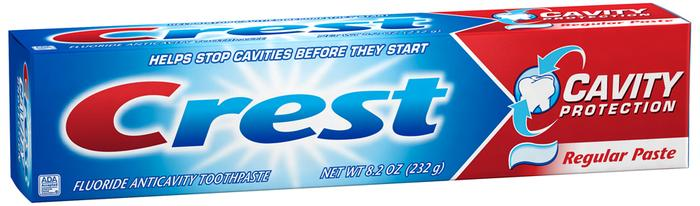toothpaste: (1, 8, 700, 197)
